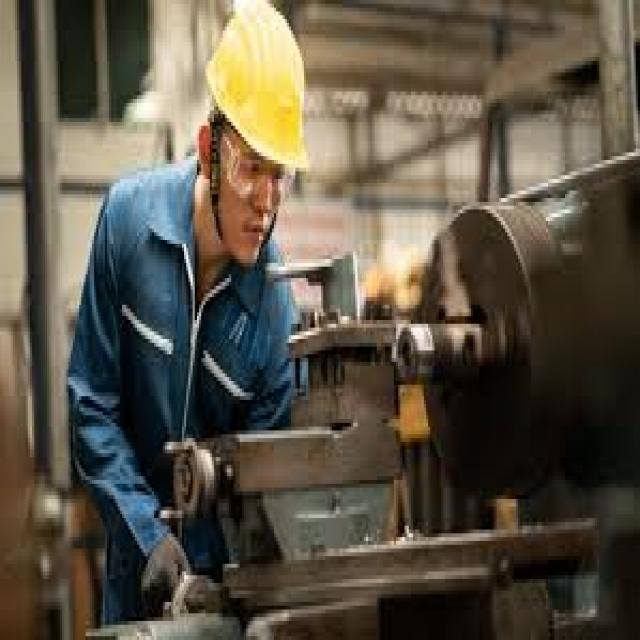Safety-Helmet: (201, 4, 317, 183)
